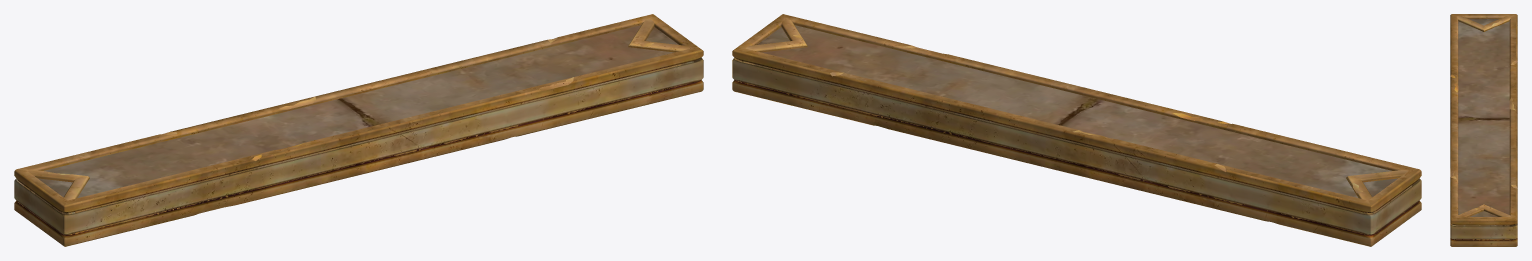
The picture shows the model from 3 angles, left to right: view 1: azimuth 30°, elevation 25°; view 2: azimuth 150°, elevation 25°; view 3: azimuth 270°, elevation 25°; orthographic projection. The views are drawn at different scales.
Parts seen in each view (by area): view 1: SM_AgilityBeam_4_LOD0; view 2: SM_AgilityBeam_4_LOD0; view 3: SM_AgilityBeam_4_LOD0.
Part boxes in pixels (x1,y1,x2,y2): SM_AgilityBeam_4_LOD0: (14,14,703,246); SM_AgilityBeam_4_LOD0: (732,14,1421,246); SM_AgilityBeam_4_LOD0: (1450,14,1517,246).
Bounding box in the file's own units: 4 × 0.25 × 0.5501.
Materials: 2 (2 with a texture image).
